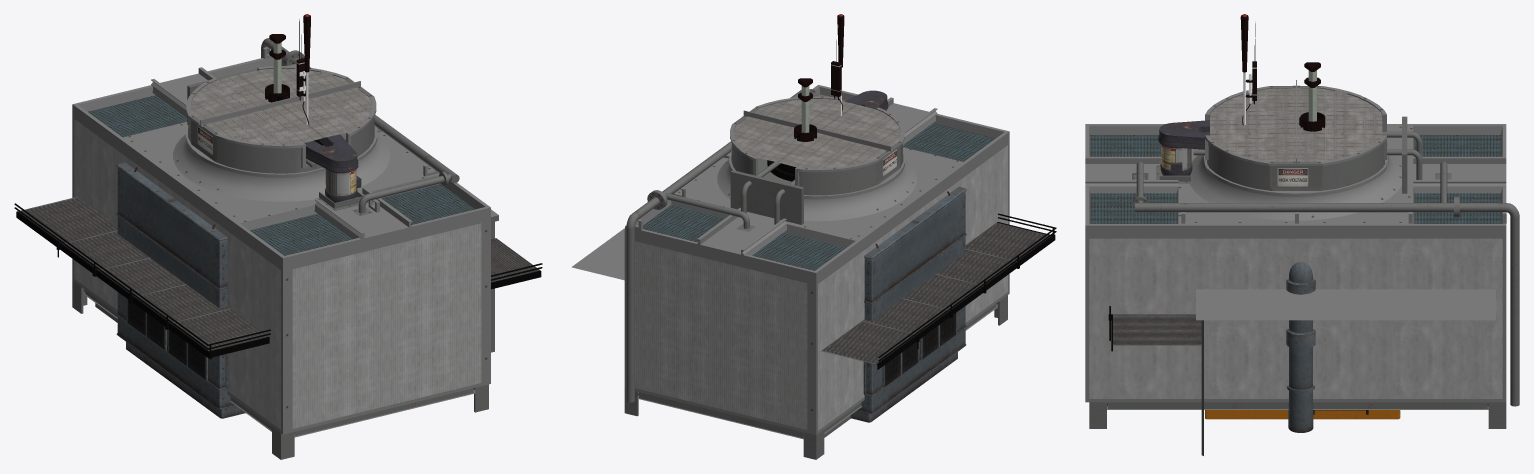
File: CityProps.glb
3 views of the same model, side by side, from view 1: azimuth 30°, elevation 25°; view 2: azimuth 150°, elevation 25°; view 3: azimuth 270°, elevation 25° (orthographic). The views are drawn at different scales.
Parts seen in each view (by area): view 1: prop_hvac_industrial_p03, prop_hvac_industrial_p01, prop_hvac_industrial_p04, prop_ac_unit_p00, prop_helipad_p01, prop_hvac_industrial_p02, prop_helipad_p00, prop_ac_unit_p01, prop_hvac_industrial_p06, prop_hvac_industrial_p05, prop_intel_tower_p00; view 2: prop_hvac_industrial_p03, prop_hvac_industrial_p01, prop_hvac_industrial_p04, prop_hvac_industrial_p02, prop_ac_unit_p00, prop_helipad_p01, prop_helipad_p00, prop_ac_unit_p01, prop_helipad_p02, prop_hvac_industrial_p06, prop_intel_tower_p00; view 3: prop_hvac_industrial_p03, prop_hvac_industrial_p01, prop_hvac_industrial_p04, prop_hvac_industrial_p02, prop_helipad_p02, prop_ac_unit_p00, prop_helipad_p01, prop_scaffold_tower_p01, prop_hvac_industrial_p06, prop_hvac_industrial_p00, prop_intel_tower_p00, prop_hvac_industrial_p05.
Part boxes in pixels (x1=…): prop_hvac_industrial_p03: x1=74, y1=119, x2=481, y2=429; prop_hvac_industrial_p01: x1=72, y1=47, x2=490, y2=434; prop_hvac_industrial_p04: x1=88, y1=68, x2=474, y2=255; prop_ac_unit_p00: x1=115, y1=162, x2=245, y2=418; prop_helipad_p01: x1=18, y1=196, x2=540, y2=350; prop_hvac_industrial_p02: x1=72, y1=38, x2=488, y2=459; prop_helipad_p00: x1=14, y1=203, x2=542, y2=359; prop_ac_unit_p01: x1=126, y1=167, x2=228, y2=387; prop_hvac_industrial_p06: x1=304, y1=134, x2=361, y2=202; prop_hvac_industrial_p05: x1=128, y1=54, x2=487, y2=408; prop_intel_tower_p00: x1=265, y1=34, x2=289, y2=102; prop_hvac_industrial_p03: x1=635, y1=145, x2=1007, y2=430; prop_hvac_industrial_p01: x1=624, y1=85, x2=1009, y2=435; prop_hvac_industrial_p04: x1=643, y1=99, x2=995, y2=270; prop_hvac_industrial_p02: x1=624, y1=89, x2=1007, y2=459; prop_ac_unit_p00: x1=850, y1=187, x2=966, y2=422; prop_helipad_p01: x1=821, y1=222, x2=1050, y2=364; prop_helipad_p00: x1=876, y1=213, x2=1056, y2=369; prop_ac_unit_p01: x1=863, y1=191, x2=957, y2=394; prop_helipad_p02: x1=571, y1=228, x2=624, y2=280; prop_hvac_industrial_p06: x1=845, y1=90, x2=888, y2=110; prop_intel_tower_p00: x1=794, y1=78, x2=816, y2=141; prop_hvac_industrial_p03: x1=1089, y1=238, x2=1502, y2=398; prop_hvac_industrial_p01: x1=1085, y1=80, x2=1506, y2=402; prop_hvac_industrial_p04: x1=1090, y1=88, x2=1500, y2=223; prop_hvac_industrial_p02: x1=1089, y1=86, x2=1519, y2=428; prop_helipad_p02: x1=1196, y1=289, x2=1495, y2=320; prop_ac_unit_p00: x1=1286, y1=262, x2=1315, y2=432; prop_helipad_p01: x1=1113, y1=314, x2=1201, y2=345; prop_scaffold_tower_p01: x1=1205, y1=410, x2=1400, y2=419; prop_hvac_industrial_p06: x1=1158, y1=120, x2=1209, y2=175; prop_hvac_industrial_p00: x1=1161, y1=144, x2=1308, y2=186; prop_intel_tower_p00: x1=1300, y1=62, x2=1325, y2=131; prop_hvac_industrial_p05: x1=1134, y1=86, x2=1412, y2=222.
Size of the model in its own units: 28.77 by 29.81 by 32.28.
93 materials, 93 textured.
